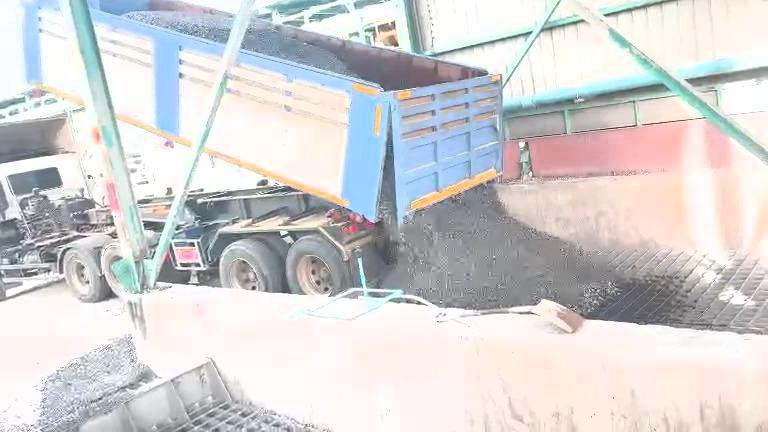gravel: (383, 184, 616, 313), (35, 334, 153, 430), (242, 18, 357, 77), (123, 11, 233, 43), (378, 138, 397, 233)
